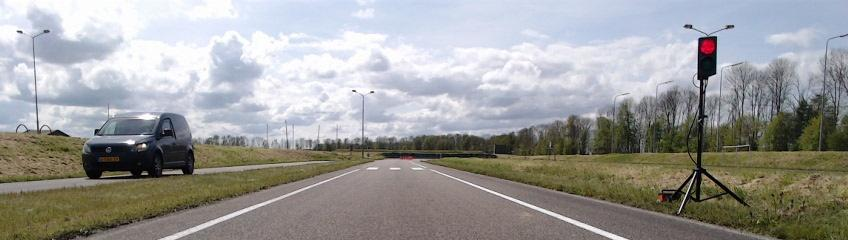TrafficLight-red: (698, 37, 717, 76)
